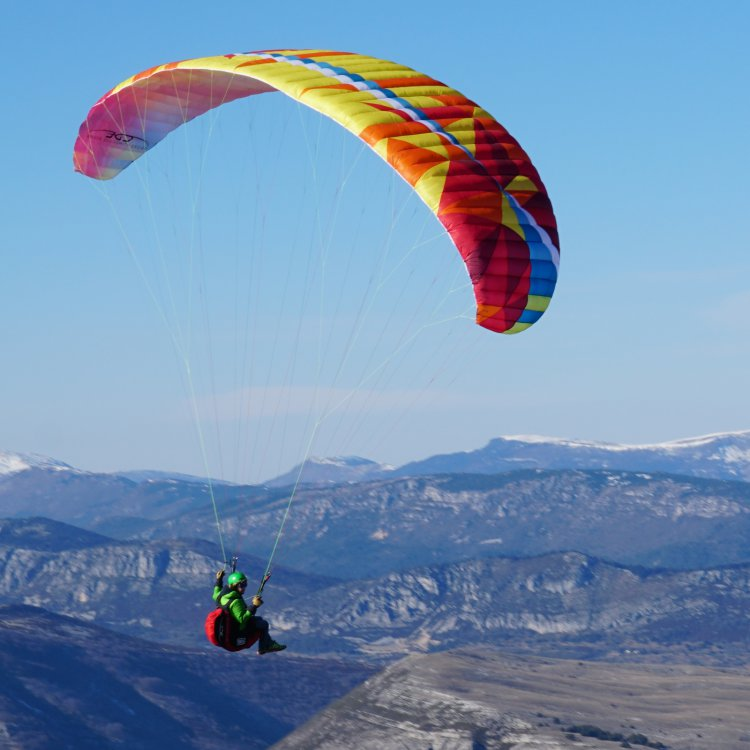Paraglider: (66, 52, 565, 344)
